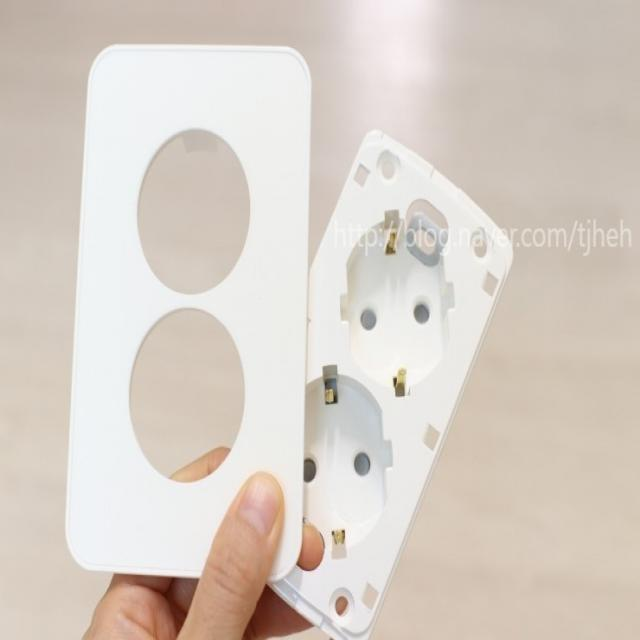typeb: (262, 158, 575, 630)
